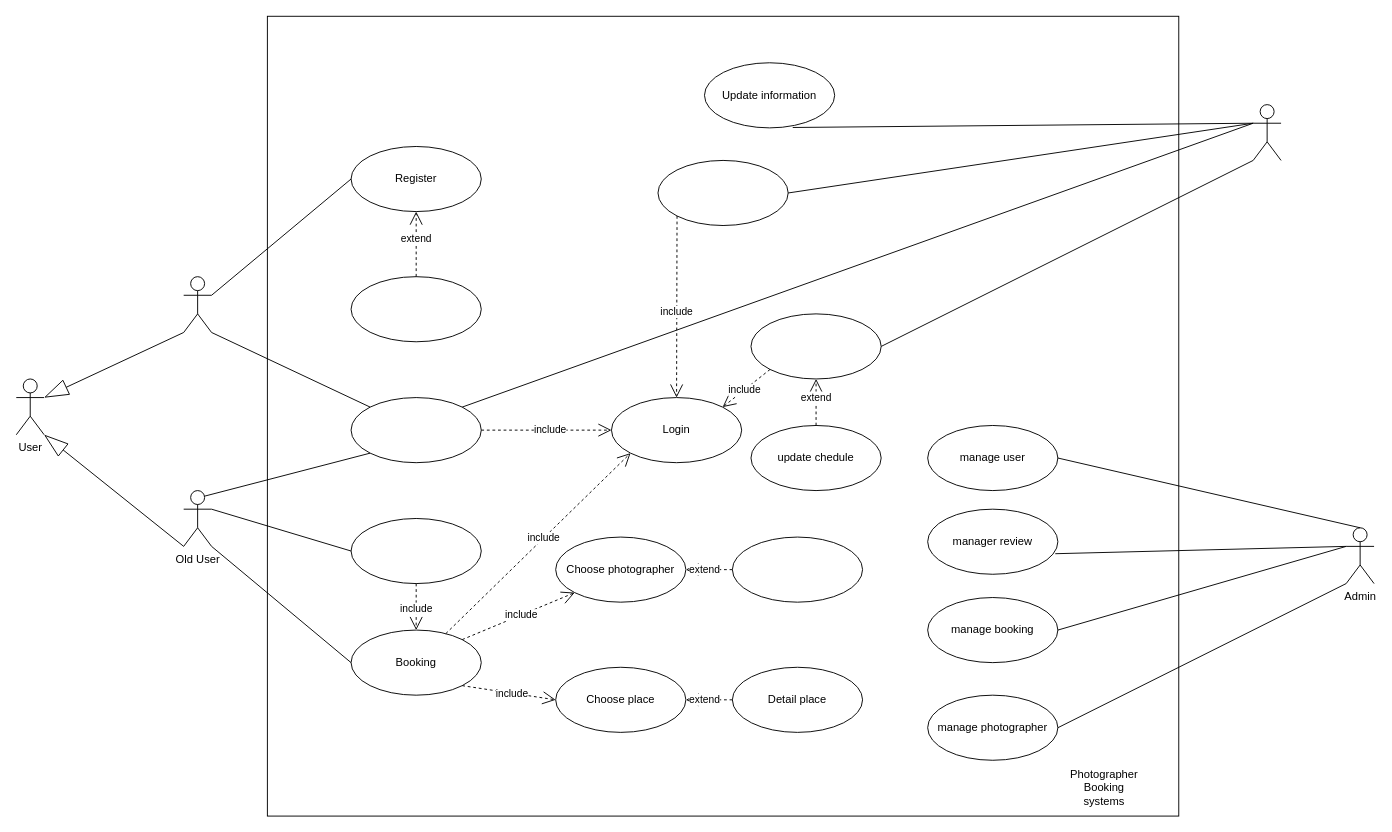
Image size: 1392x832. Some labels were removed from this diagram. The shapes that lost their labels are listed below. From the top down, each one's centre as x and y in pixels, then its label:
At point 1266,132: "Photographer".
At point 722,192: "Upload album".
At point 197,304: "New User".
At point 415,309: "update user information".
At point 815,346: "Upload schedule".
At point 415,430: "Chat".
At point 415,551: "Review".
At point 797,569: "Detail Information".
